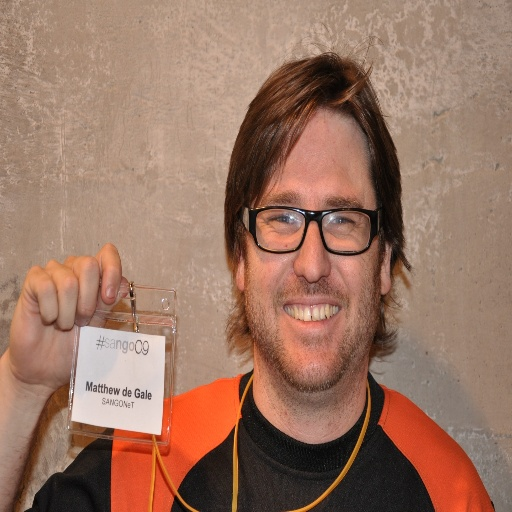hand: (7, 238, 131, 395)
